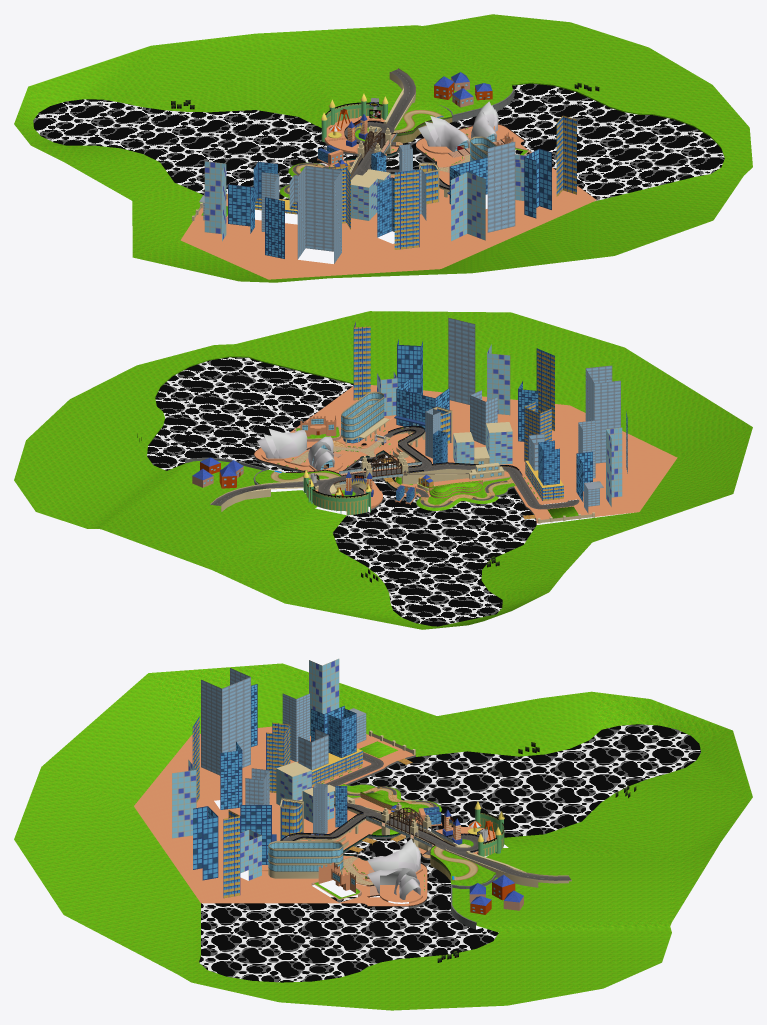
The picture shows the model from 3 angles, top to bottom: view 1: azimuth 30°, elevation 25°; view 2: azimuth 150°, elevation 25°; view 3: azimuth 270°, elevation 25°; orthographic projection. The views are drawn at different scales.
Visible parts, largest first — view 1: MKT_Sydney_Sprint_SKP__Grass.001, MKT_Sydney_Sprint_SKP__water.001, MKT_Sydney_Sprint_SKP__building1.001, MKT_Sydney_Sprint_SKP__concrete.001, MKT_Sydney_Sprint_SKP__Opera.001, MKT_Sydney_Sprint_SKP__Park1.001, MKT_Sydney_Sprint_SKP__harbor.001, MKT_Sydney_Sprint_SKP__roood.001, MKT_Sydney_Sprint_SKP__Parkwall.001, MKT_Sydney_Sprint_SKP__multi.001, MKT_Sydney_Sprint_SKP__steps.001, MKT_Sydney_Sprint_SKP__glass.001 (+1 smaller); view 2: MKT_Sydney_Sprint_SKP__Grass.001, MKT_Sydney_Sprint_SKP__water.001, MKT_Sydney_Sprint_SKP__building1.001, MKT_Sydney_Sprint_SKP__concrete.001, MKT_Sydney_Sprint_SKP__harbor.001, MKT_Sydney_Sprint_SKP__roood.001, MKT_Sydney_Sprint_SKP__Opera.001, MKT_Sydney_Sprint_SKP__glass.001, MKT_Sydney_Sprint_SKP__Park1.001, MKT_Sydney_Sprint_SKP__multi.001, MKT_Sydney_Sprint_SKP__feeense.001, MKT_Sydney_Sprint_SKP__Parkwall.001 (+1 smaller); view 3: MKT_Sydney_Sprint_SKP__Grass.001, MKT_Sydney_Sprint_SKP__water.001, MKT_Sydney_Sprint_SKP__building1.001, MKT_Sydney_Sprint_SKP__concrete.001, MKT_Sydney_Sprint_SKP__harbor.001, MKT_Sydney_Sprint_SKP__roood.001, MKT_Sydney_Sprint_SKP__Opera.001, MKT_Sydney_Sprint_SKP__glass.001, MKT_Sydney_Sprint_SKP__Park1.001, MKT_Sydney_Sprint_SKP__multi.001, MKT_Sydney_Sprint_SKP__feeense.001, MKT_Sydney_Sprint_SKP__Parkwall.001 (+1 smaller).
Part boxes in pixels (left/top/right/bottom): MKT_Sydney_Sprint_SKP__Grass.001: left=14, top=14, right=752, bottom=282; MKT_Sydney_Sprint_SKP__water.001: left=33, top=83, right=724, bottom=201; MKT_Sydney_Sprint_SKP__building1.001: left=199, top=115, right=576, bottom=263; MKT_Sydney_Sprint_SKP__concrete.001: left=180, top=116, right=596, bottom=279; MKT_Sydney_Sprint_SKP__Opera.001: left=329, top=98, right=498, bottom=151; MKT_Sydney_Sprint_SKP__Park1.001: left=321, top=72, right=492, bottom=166; MKT_Sydney_Sprint_SKP__harbor.001: left=192, top=68, right=497, bottom=220; MKT_Sydney_Sprint_SKP__roood.001: left=227, top=69, right=449, bottom=218; MKT_Sydney_Sprint_SKP__Parkwall.001: left=321, top=101, right=387, bottom=142; MKT_Sydney_Sprint_SKP__multi.001: left=226, top=86, right=514, bottom=199; MKT_Sydney_Sprint_SKP__steps.001: left=381, top=77, right=530, bottom=172; MKT_Sydney_Sprint_SKP__glass.001: left=332, top=84, right=512, bottom=168; MKT_Sydney_Sprint_SKP__Grass.001: left=14, top=311, right=752, bottom=629; MKT_Sydney_Sprint_SKP__water.001: left=147, top=357, right=536, bottom=626; MKT_Sydney_Sprint_SKP__building1.001: left=343, top=317, right=627, bottom=513; MKT_Sydney_Sprint_SKP__concrete.001: left=254, top=385, right=677, bottom=523; MKT_Sydney_Sprint_SKP__harbor.001: left=210, top=391, right=594, bottom=523; MKT_Sydney_Sprint_SKP__roood.001: left=210, top=427, right=579, bottom=509; MKT_Sydney_Sprint_SKP__Opera.001: left=257, top=428, right=398, bottom=494; MKT_Sydney_Sprint_SKP__glass.001: left=203, top=393, right=501, bottom=491; MKT_Sydney_Sprint_SKP__Park1.001: left=192, top=435, right=432, bottom=496; MKT_Sydney_Sprint_SKP__multi.001: left=185, top=431, right=536, bottom=522; MKT_Sydney_Sprint_SKP__feeense.001: left=254, top=425, right=522, bottom=492; MKT_Sydney_Sprint_SKP__Parkwall.001: left=303, top=477, right=370, bottom=515; MKT_Sydney_Sprint_SKP__Grass.001: left=14, top=663, right=752, bottom=1010; MKT_Sydney_Sprint_SKP__water.001: left=199, top=724, right=700, bottom=982; MKT_Sydney_Sprint_SKP__building1.001: left=172, top=658, right=441, bottom=898; MKT_Sydney_Sprint_SKP__concrete.001: left=134, top=726, right=495, bottom=906; MKT_Sydney_Sprint_SKP__harbor.001: left=268, top=730, right=571, bottom=891; MKT_Sydney_Sprint_SKP__roood.001: left=282, top=752, right=570, bottom=880; MKT_Sydney_Sprint_SKP__Opera.001: left=367, top=821, right=487, bottom=899; MKT_Sydney_Sprint_SKP__glass.001: left=268, top=792, right=500, bottom=913; MKT_Sydney_Sprint_SKP__Park1.001: left=391, top=801, right=523, bottom=914; MKT_Sydney_Sprint_SKP__multi.001: left=343, top=755, right=496, bottom=929; MKT_Sydney_Sprint_SKP__feeense.001: left=280, top=787, right=479, bottom=906; MKT_Sydney_Sprint_SKP__Parkwall.001: left=475, top=809, right=504, bottom=856.
Size of the model in its own units: 306609 by 40164 by 292900.
Materials: 32 (31 with a texture image).
